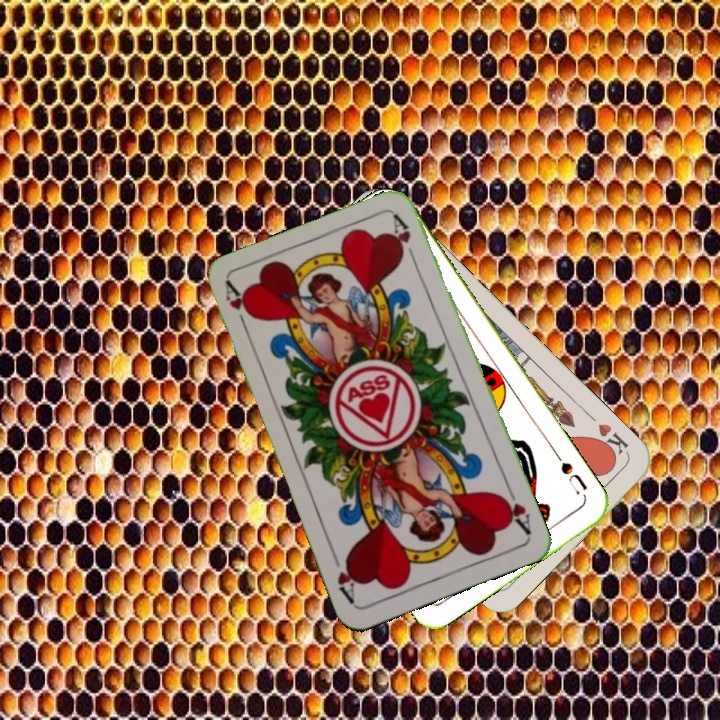HA: (496, 481, 534, 537), (221, 279, 255, 336)
HK: (589, 419, 632, 462)
SU: (551, 449, 590, 501)
